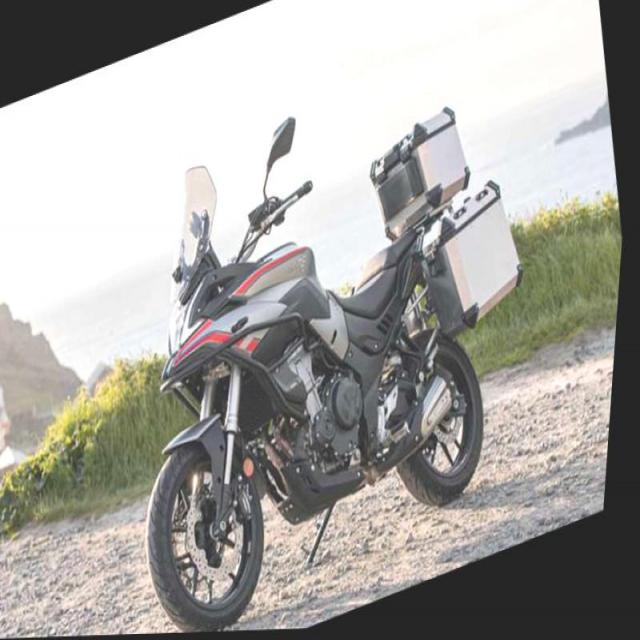CB500X: (92, 54, 529, 636)
